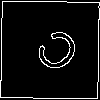C: (25, 25, 84, 84)
